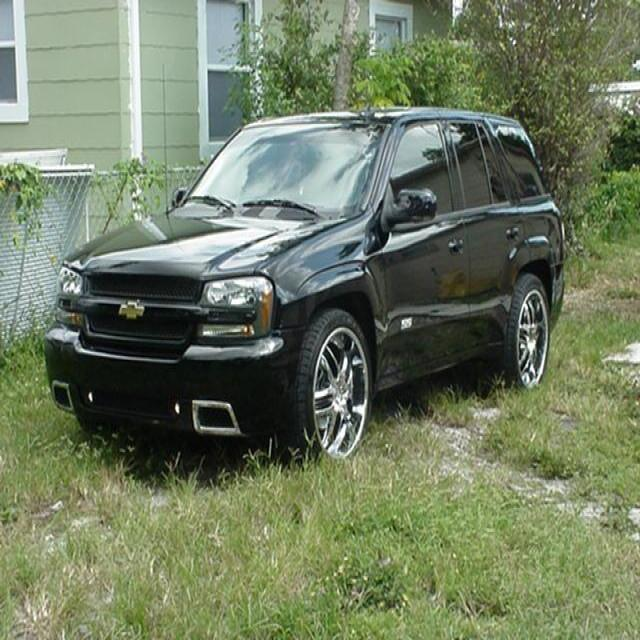Car: (27, 67, 600, 453)
